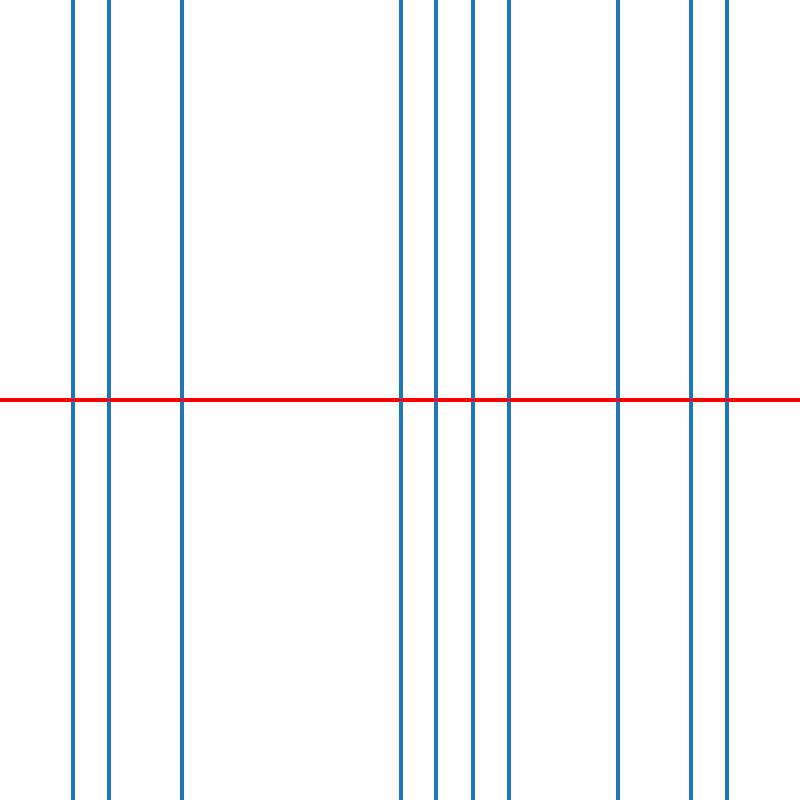root: (432, 396, 440, 404), (396, 396, 403, 404), (723, 396, 730, 404), (178, 396, 185, 404), (687, 396, 694, 404), (69, 396, 76, 404), (105, 396, 112, 404), (614, 396, 621, 404), (505, 396, 512, 404), (469, 396, 476, 404)
